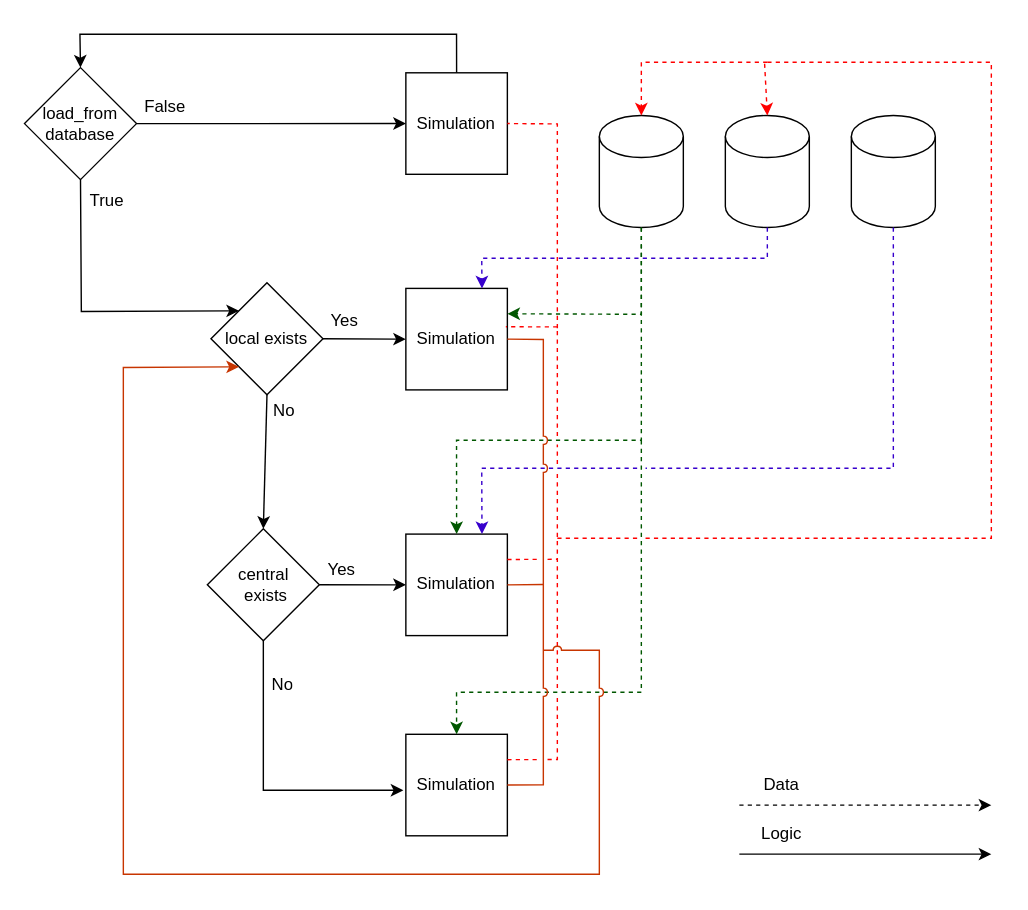
Image size: 1028x910. Some labels were removed from this diagram. Here are the shapes that lost their labels. From the top down, the centre of each, then its label:
At [640,170]: "morpho data".
At [766,170]: "local".
At [892,170]: "central".
